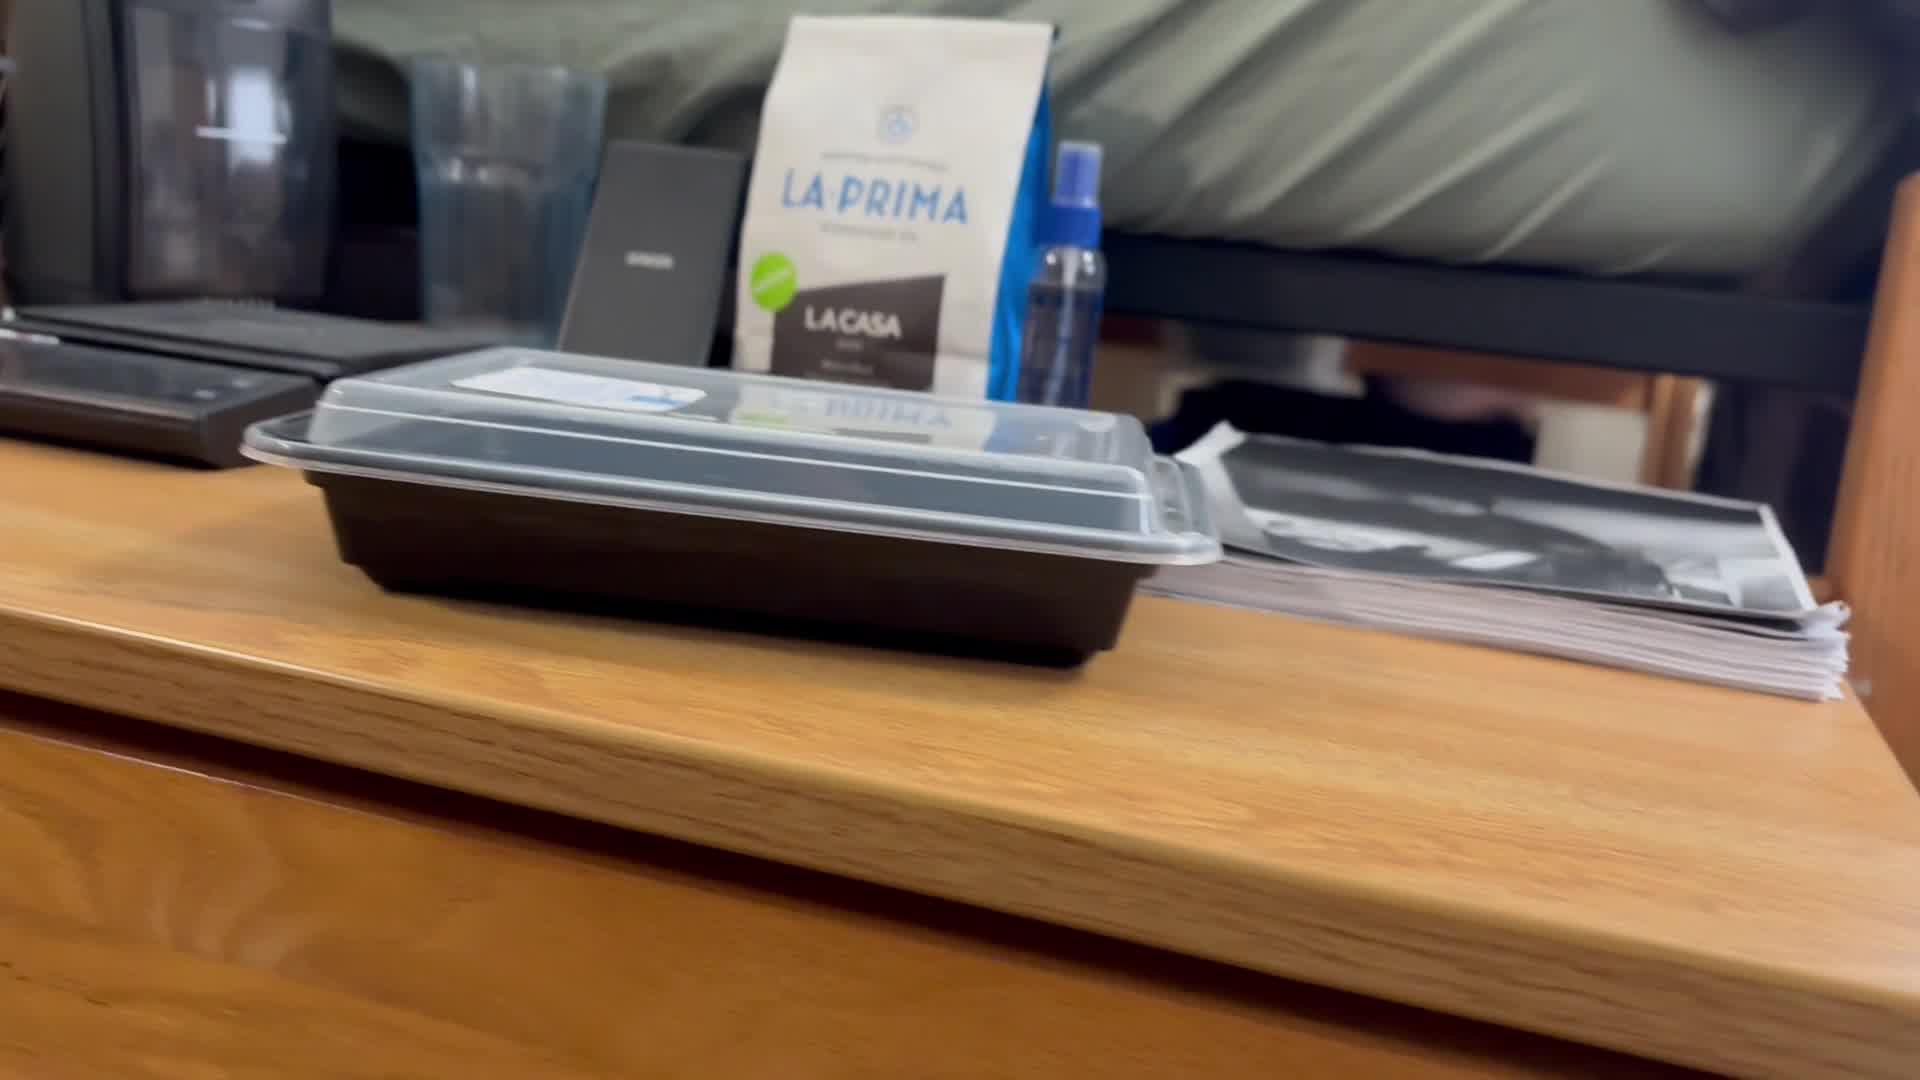lp_cup_lids: (235, 335, 1229, 682)
